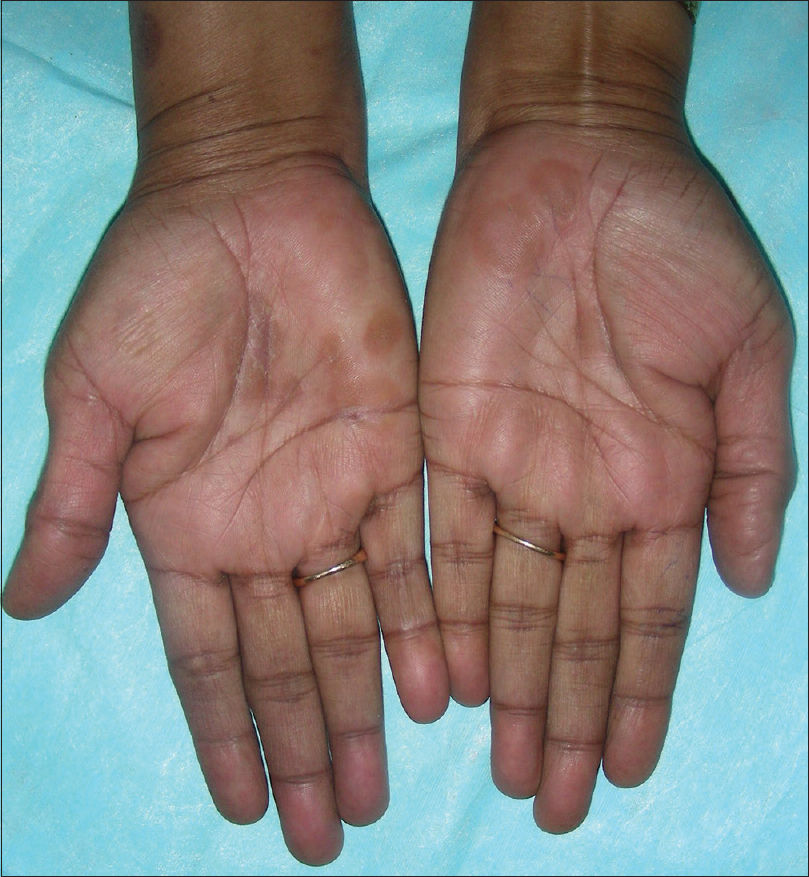Diseased: (135, 153, 656, 454)
